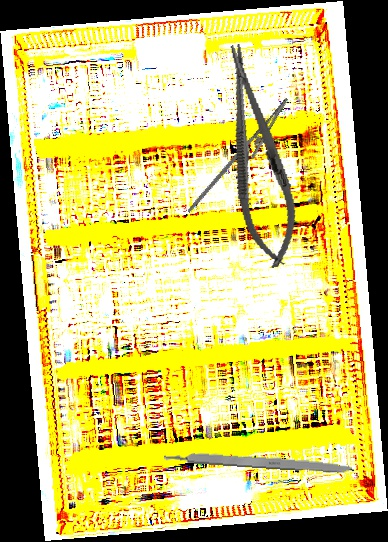Needle Holder: (208, 39, 308, 272), (186, 86, 299, 231)
Scalpel Handle: (163, 448, 355, 475)
